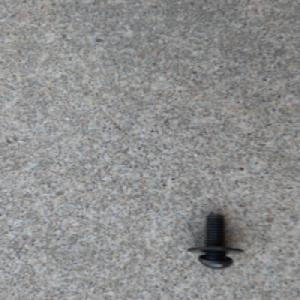BoltWasher: (185, 212, 246, 269)
